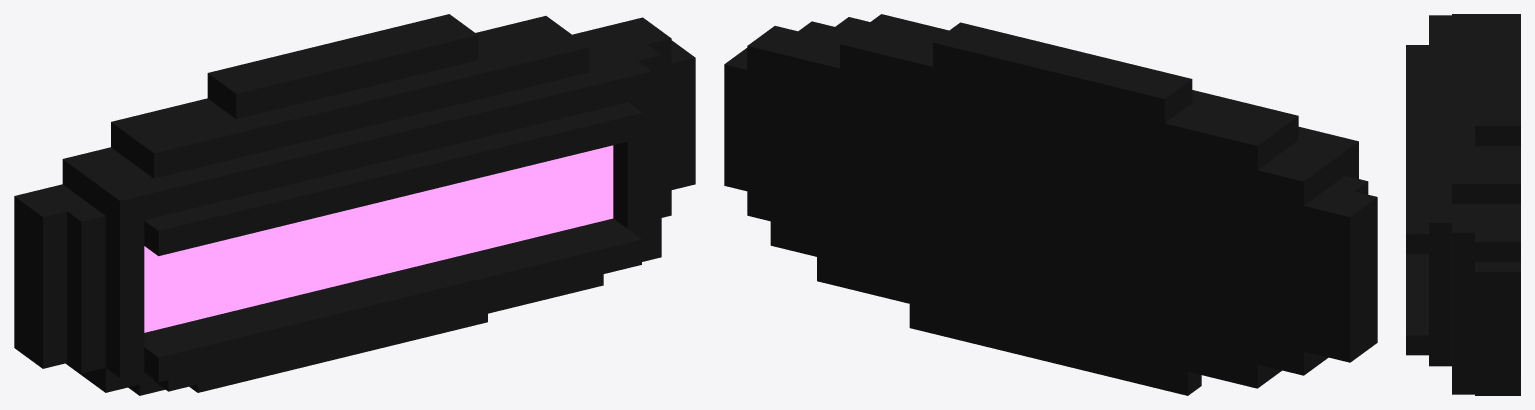
The model's file is cyclops.glb.
3 views of the same model, side by side, from view 1: azimuth 30°, elevation 25°; view 2: azimuth 150°, elevation 25°; view 3: azimuth 270°, elevation 25° (orthographic). The views are drawn at different scales.
Parts seen in each view (by area): view 1: cyclops.001; view 2: cyclops.001; view 3: cyclops.001.
Part boxes in pixels (<box>): cyclops.001: <box>14,14,695,395</box>; cyclops.001: <box>724,14,1377,395</box>; cyclops.001: <box>1406,14,1520,395</box>.
Size of the model in its own units: 2.7 by 1.2 by 0.5143.
1 material, 1 textured.
